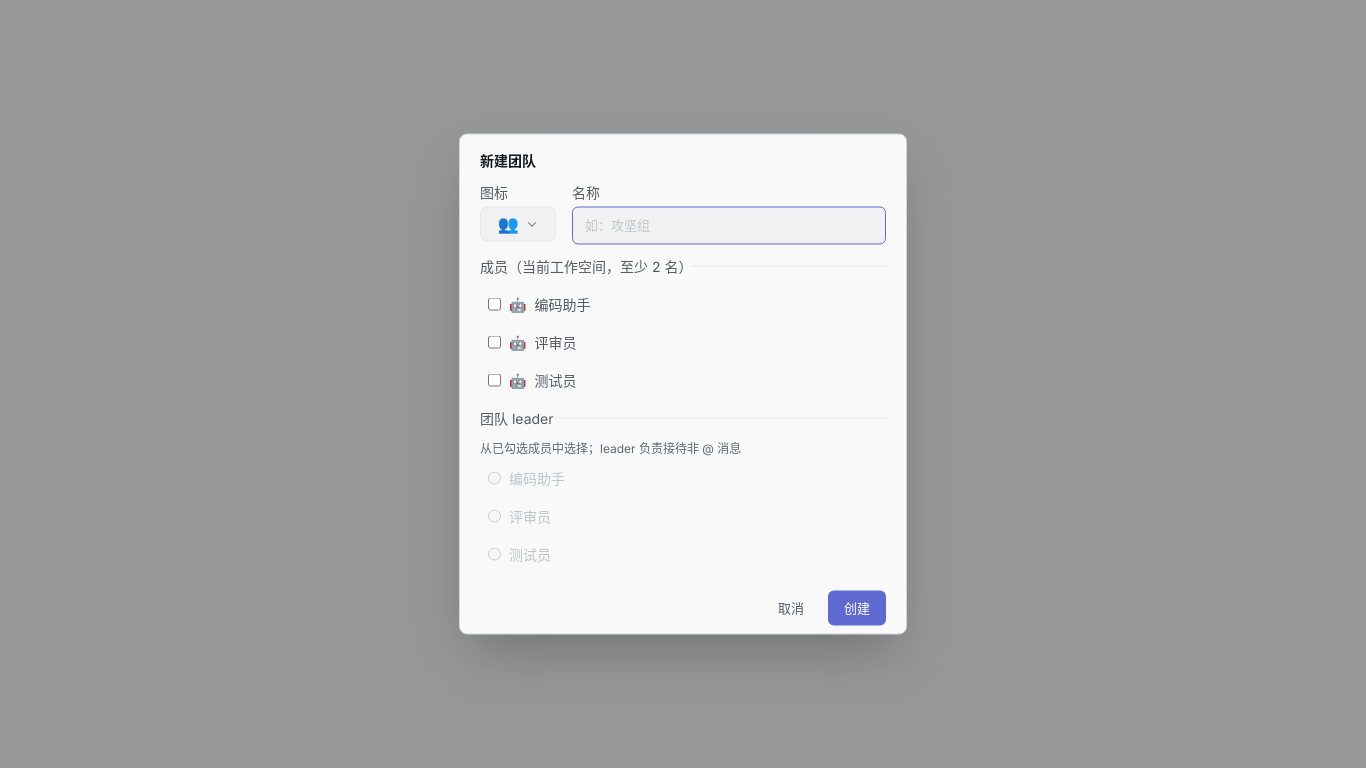
Scenario: TeamDialog — 创建模式校验 › 名称为空提交 → 显示错误不调 createTeam
The width and height of the screenshot is (1366, 768).
Click the checkbox labelled "编码助手": {"x": 494, "y": 304} [488,298,501,310]
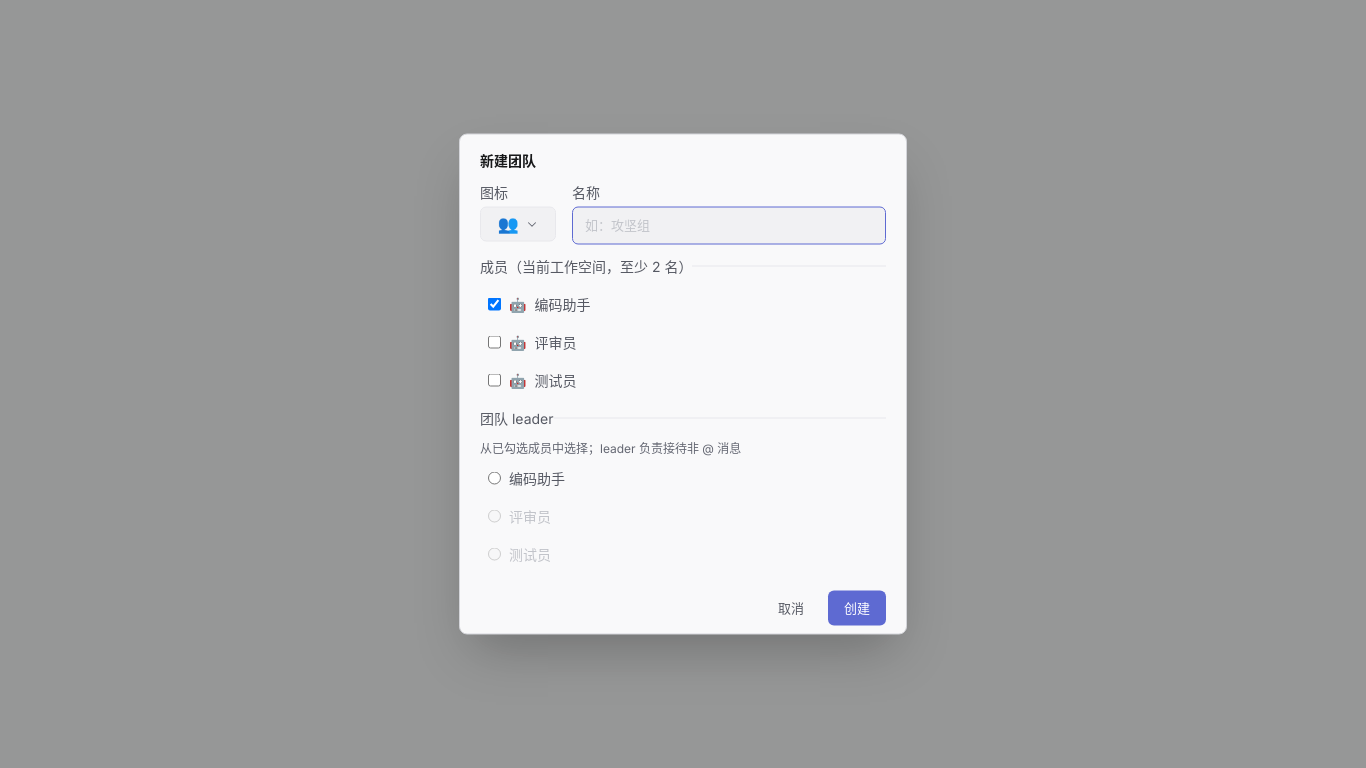
Click the checkbox labelled "评审员": {"x": 494, "y": 342} [488,336,501,348]
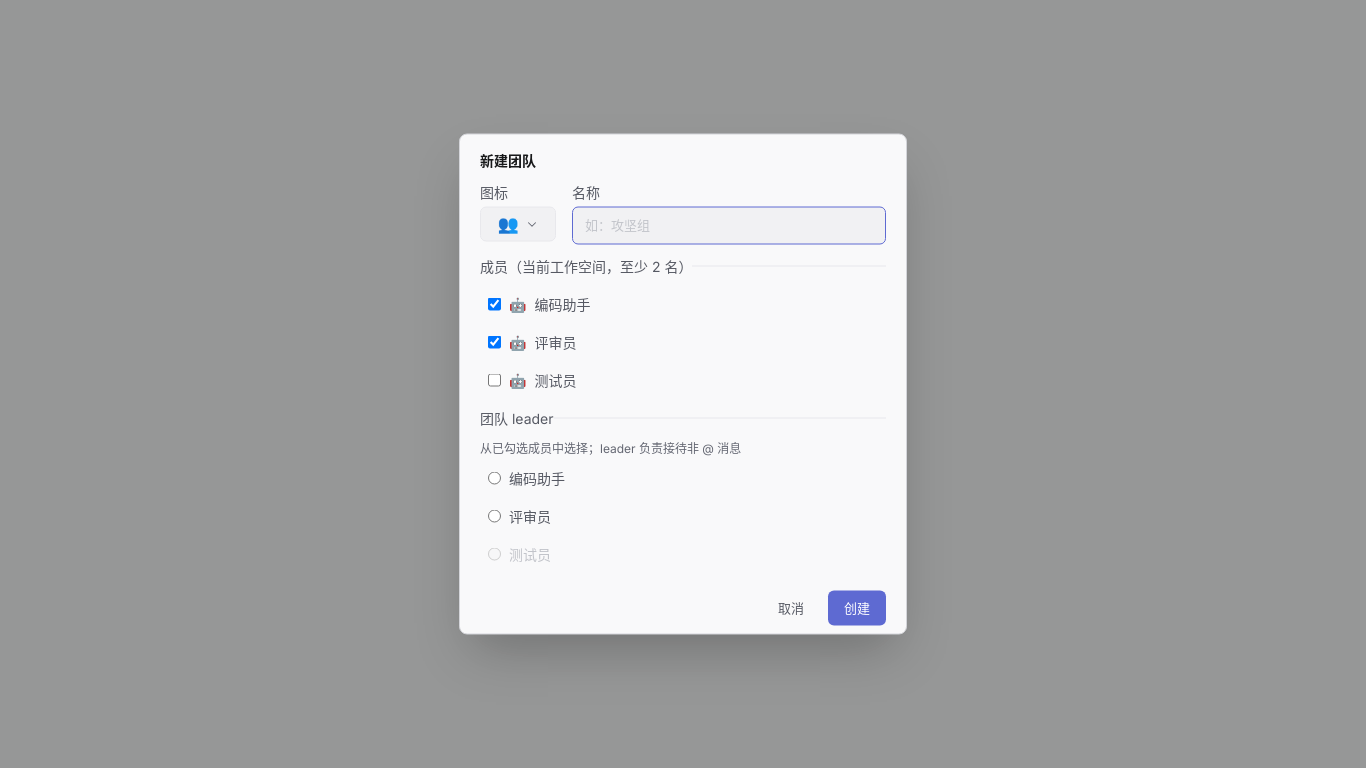
Click the radio button labelled "编码助手": {"x": 494, "y": 478} [488,472,501,484]
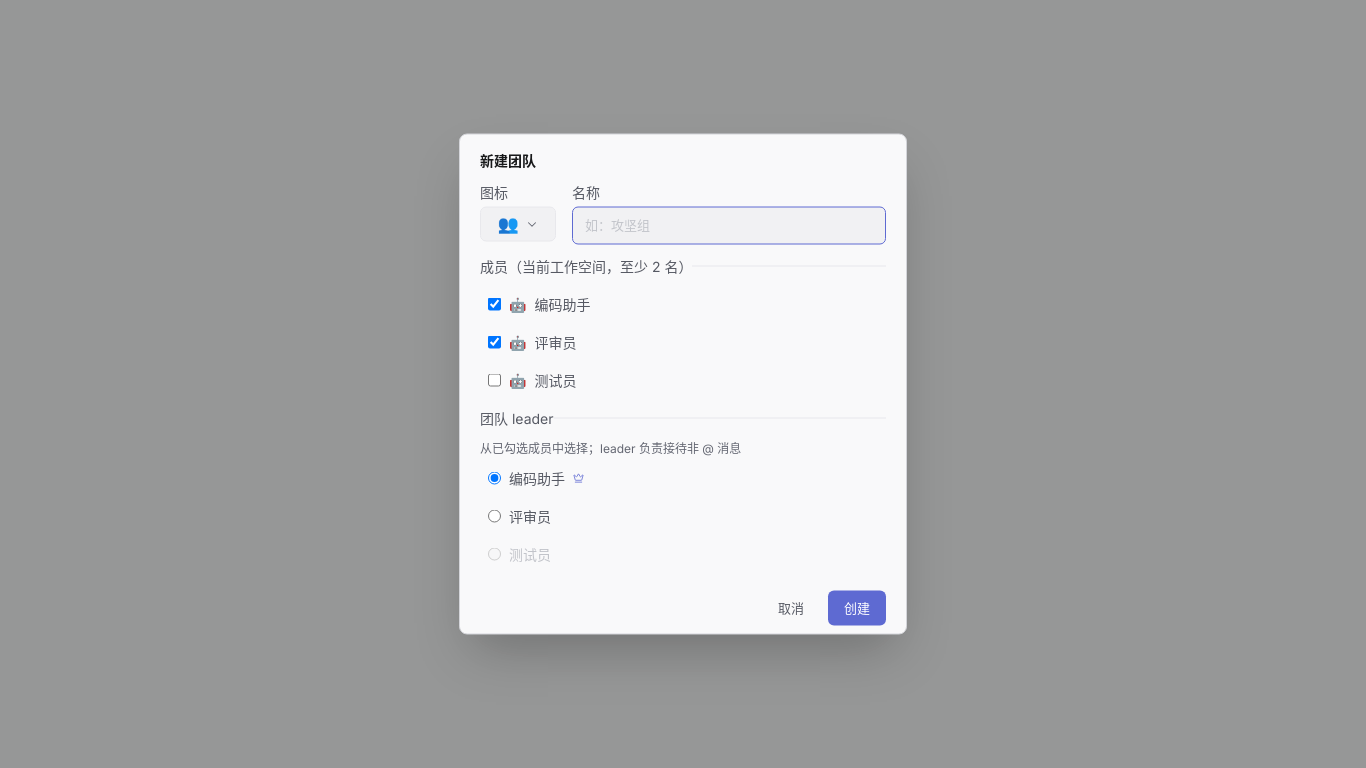
Click the button "创建": {"x": 857, "y": 608} [828,590,886,626]
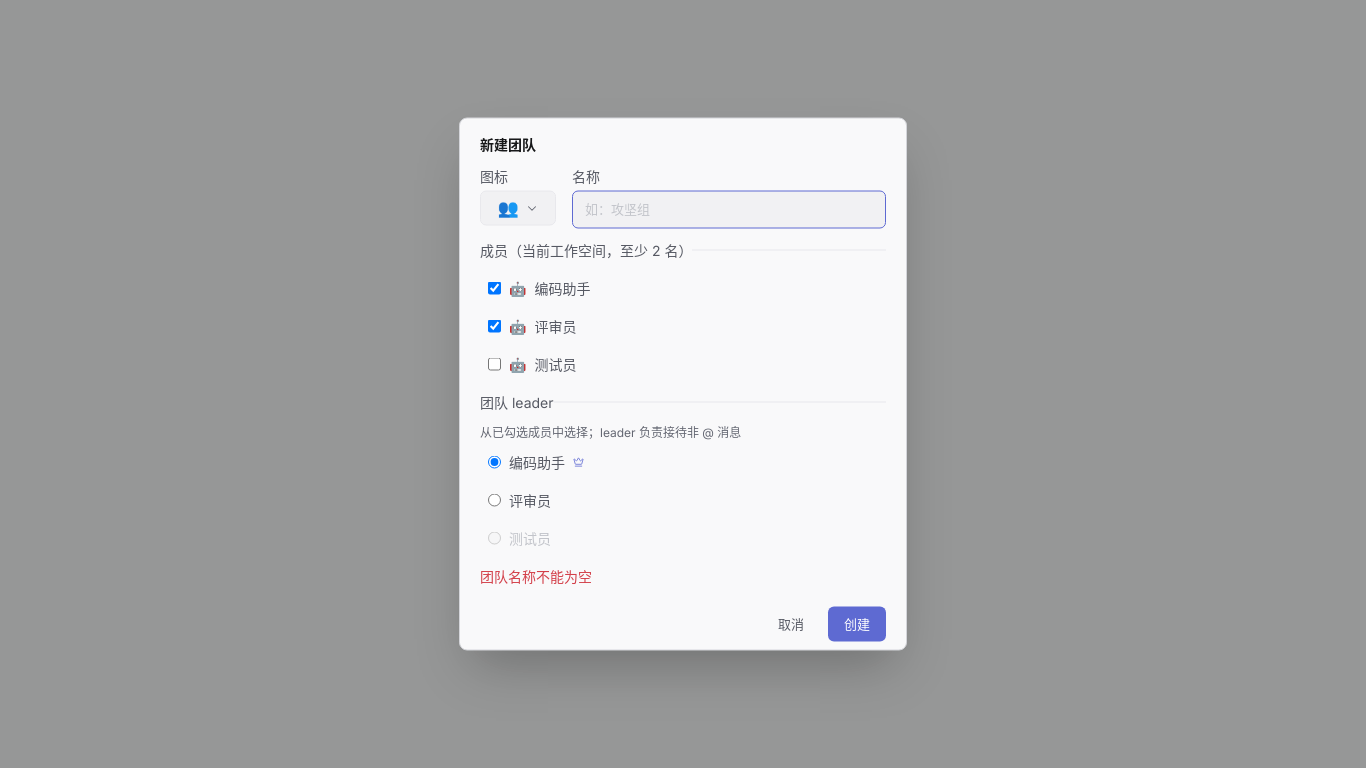
Result: the text "团队名称不能为空" is shown at [480,567,592,584]
